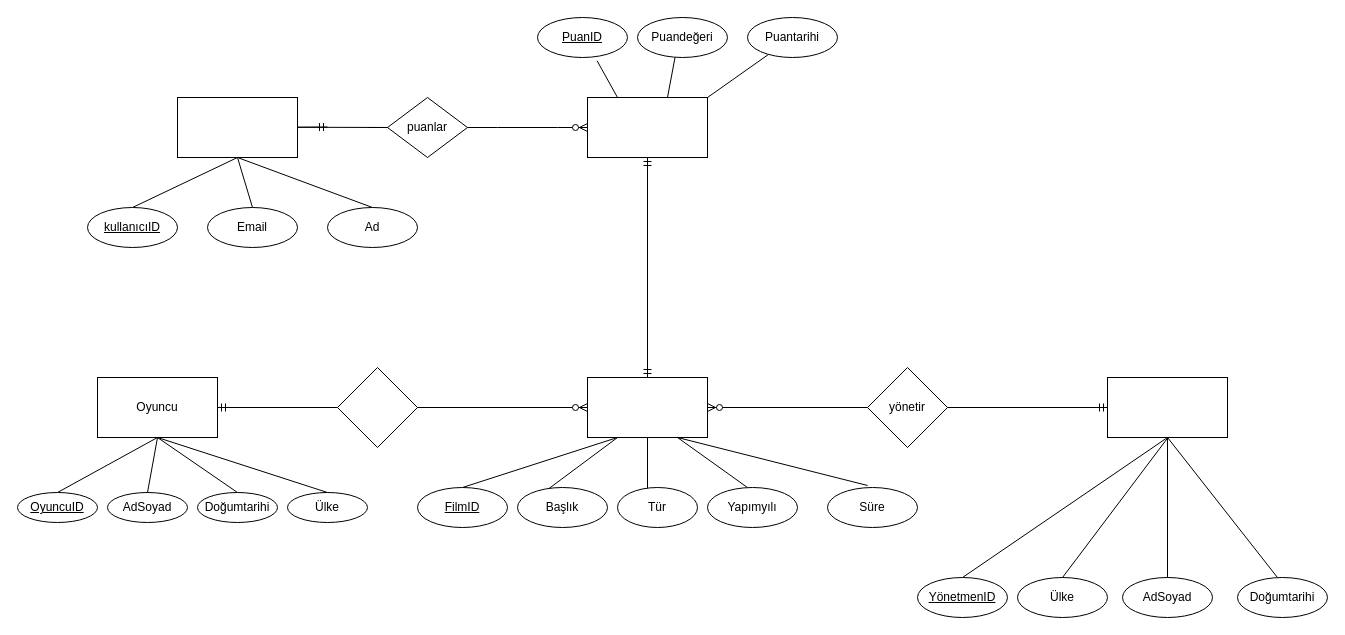
The diagram is 1345 pixels wide and 635 high, and some of its shapes have lost their labels. The centre of each missing label's shape, as x and y in pixels:
"Film" goes at (647,407).
"Kullanıcı" goes at (237,127).
"oynar" goes at (377,407).
"Puan" goes at (647,127).
"Yönetmen" goes at (1167,407).
